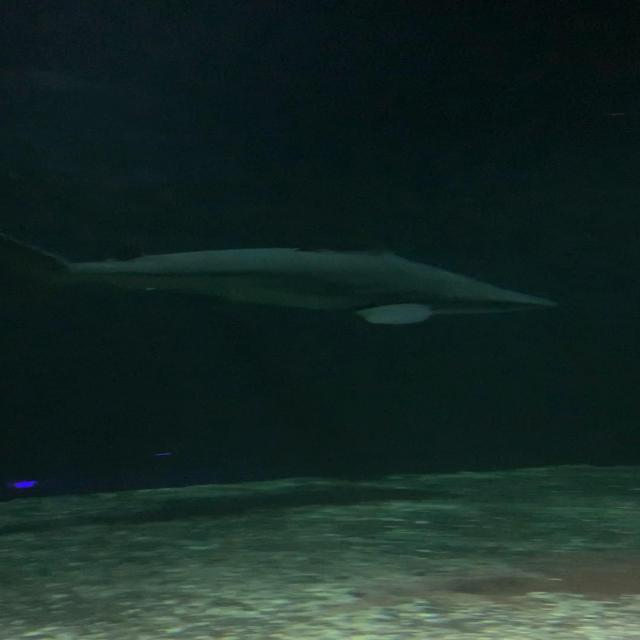shark: (11, 216, 554, 324)
